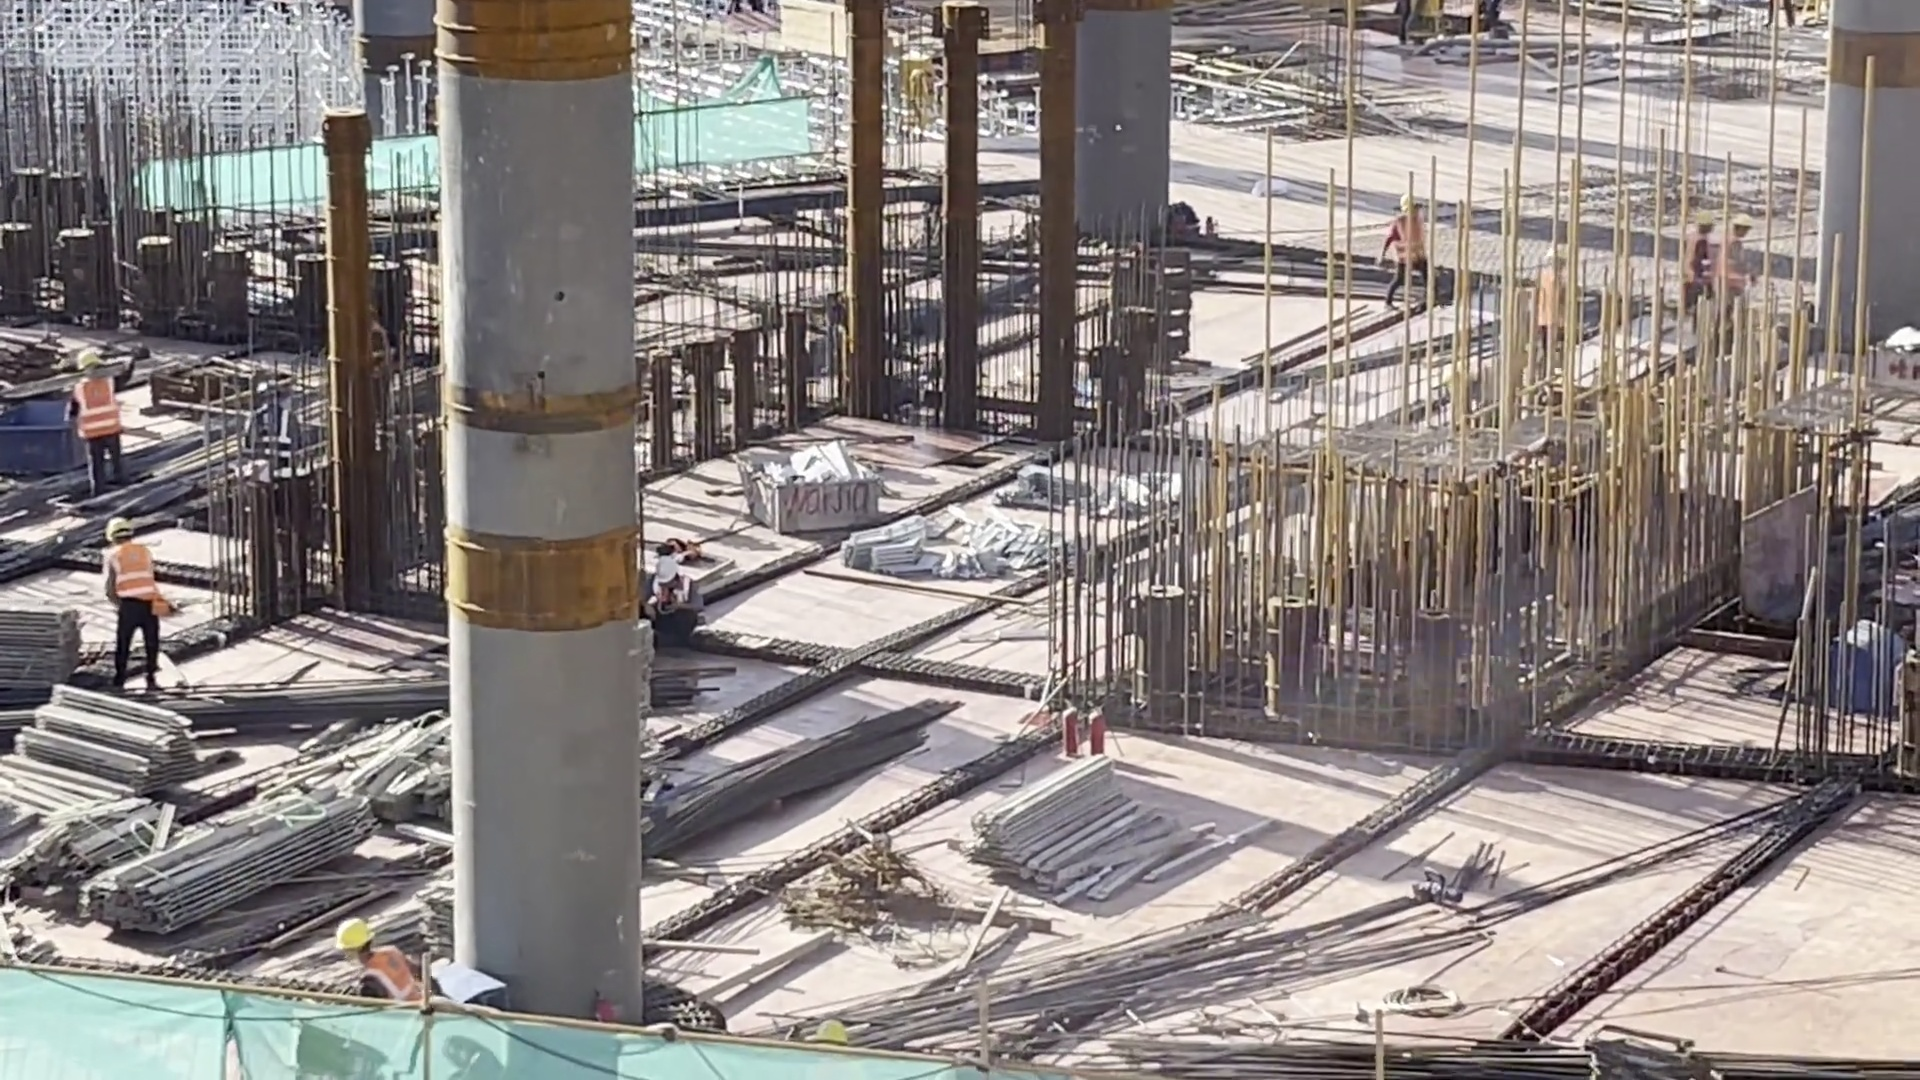helmet: (71, 335, 106, 368), (343, 916, 371, 954), (649, 553, 678, 585), (103, 509, 134, 538), (1399, 186, 1417, 212), (1701, 216, 1717, 230)
hopper: (743, 438, 891, 538), (1, 401, 118, 486)
person: (88, 513, 180, 702), (47, 343, 141, 506), (323, 908, 425, 1035), (632, 539, 714, 652), (1380, 189, 1436, 315), (1678, 204, 1730, 319), (1725, 209, 1762, 301)
vest: (349, 941, 418, 1022), (104, 543, 163, 619), (69, 378, 115, 442), (1397, 222, 1428, 269)
wood: (971, 731, 1181, 915), (106, 771, 364, 913), (19, 674, 225, 808), (1, 597, 96, 705)
